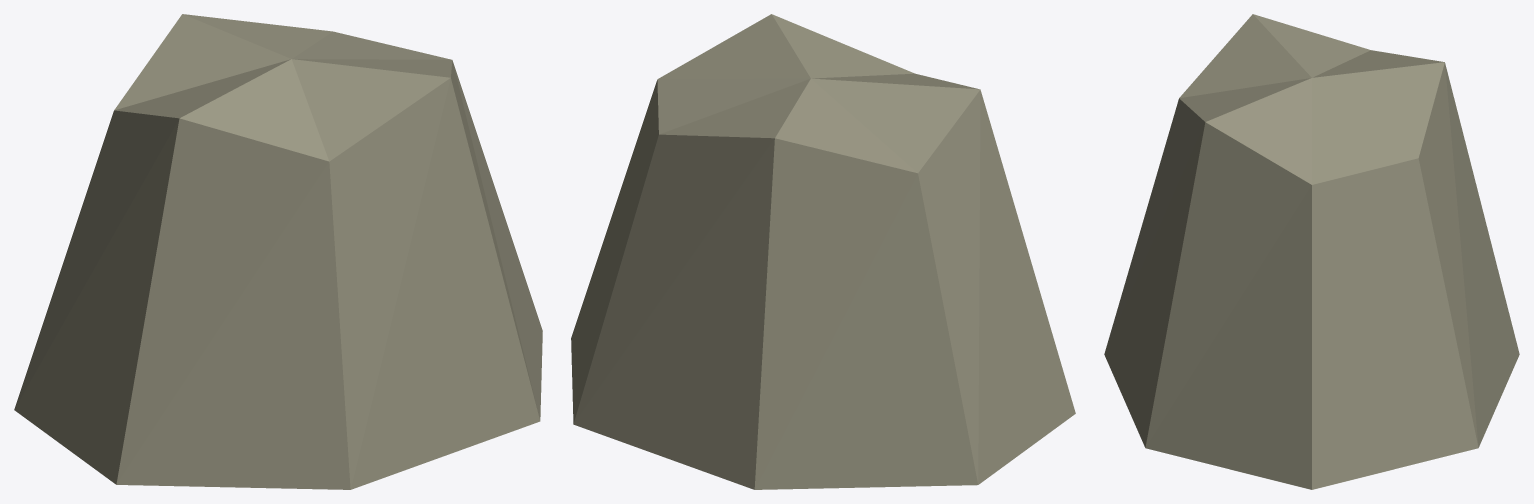
File: rock_cliff.glb
3 views of the same model, side by side, from view 1: azimuth 30°, elevation 25°; view 2: azimuth 150°, elevation 25°; view 3: azimuth 270°, elevation 25° (orthographic). The views are drawn at different scales.
Parts seen in each view (by area): view 1: rock_cliff; view 2: rock_cliff; view 3: rock_cliff.
Part boxes in pixels (box(x1,y1,x2,y2)): rock_cliff: box(14, 14, 542, 489); rock_cliff: box(571, 14, 1075, 489); rock_cliff: box(1104, 14, 1519, 489).
Bounding box in the file's own units: 6 × 4 × 5.
